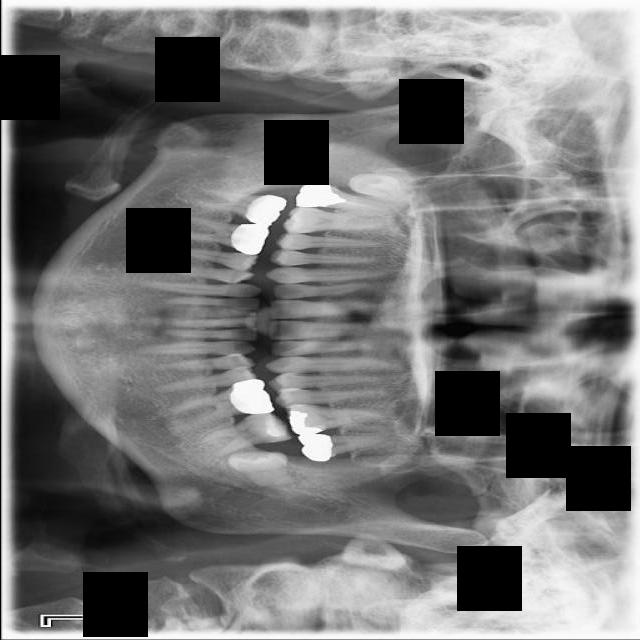3M ESPE Implant: (346, 167, 419, 206)
52: (225, 185, 288, 261), (225, 374, 274, 422), (241, 406, 293, 447), (284, 404, 329, 435), (297, 432, 334, 463), (294, 181, 332, 209)
73: (318, 184, 398, 221), (49, 600, 62, 604)
BioHorizons Implant: (296, 433, 385, 463)
Biomet 3i Implant: (225, 452, 290, 489)
Blue Sky Bio Implant: (192, 405, 292, 463)
Caries: (294, 180, 399, 219)
Implant: (187, 180, 287, 229)
